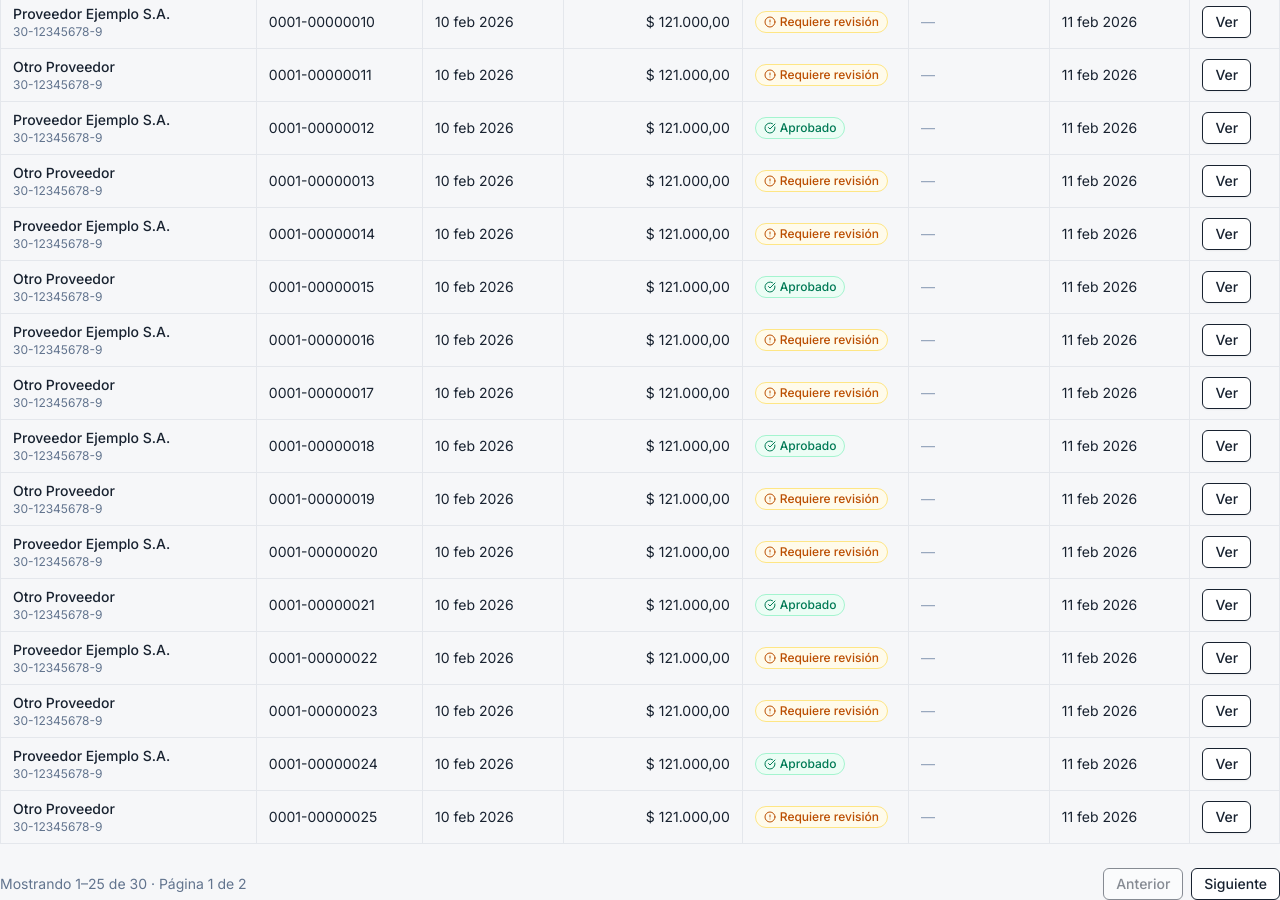
Scenario: DocumentsPage (S2) › paginación: 30 documentos, siguiente pide offset 25
(page scrolled)
Expected: the text "Mostrando 1–25 de 30 · Página 1 de 2" is shown, [0,874,247,894]
Click the button "Siguiente" at (1236, 884), box [1191,868,1279,899]
(page scrolled)
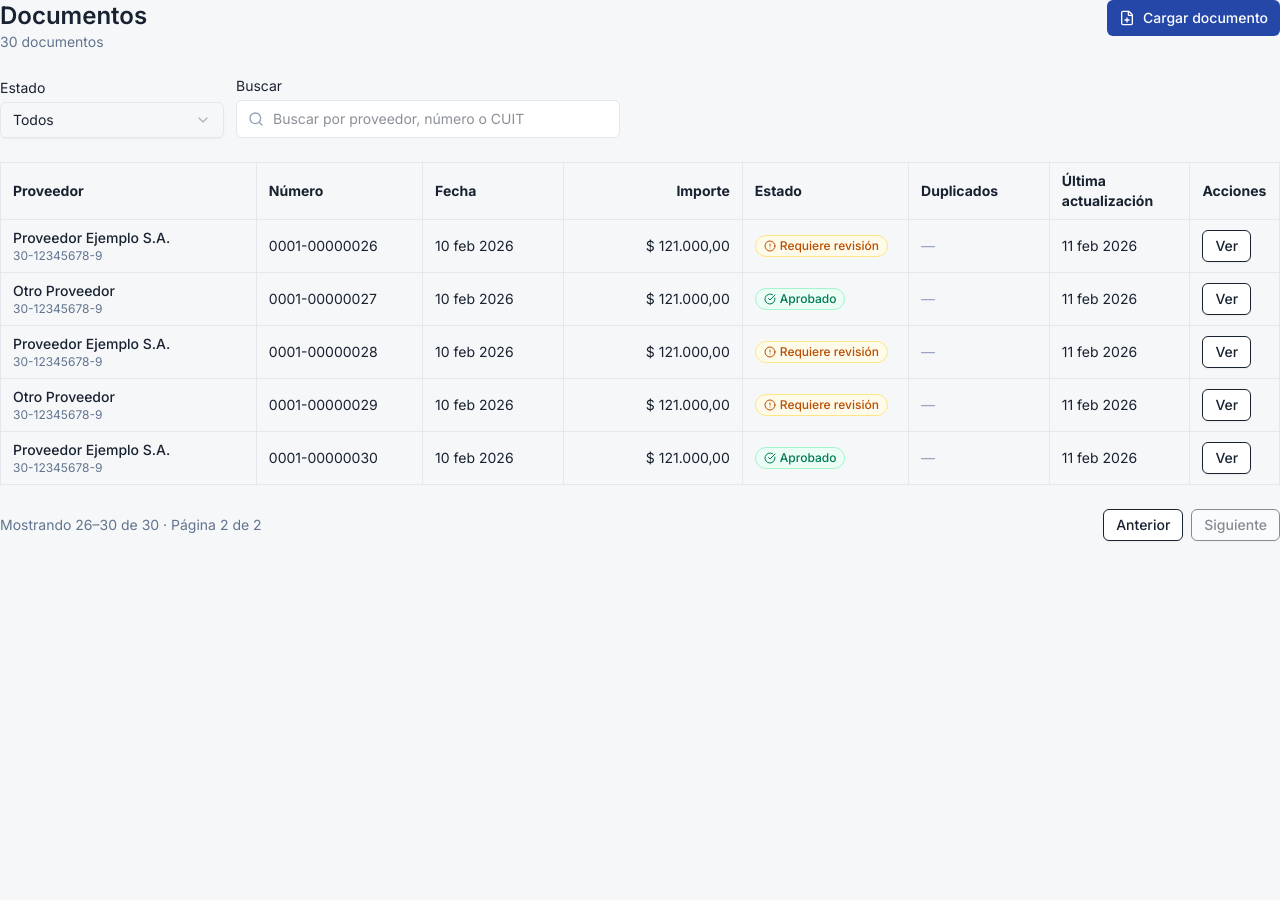
Now the text "Mostrando 26–30 de 30 · Página 2 de 2" is shown, box [0,515,262,535]
